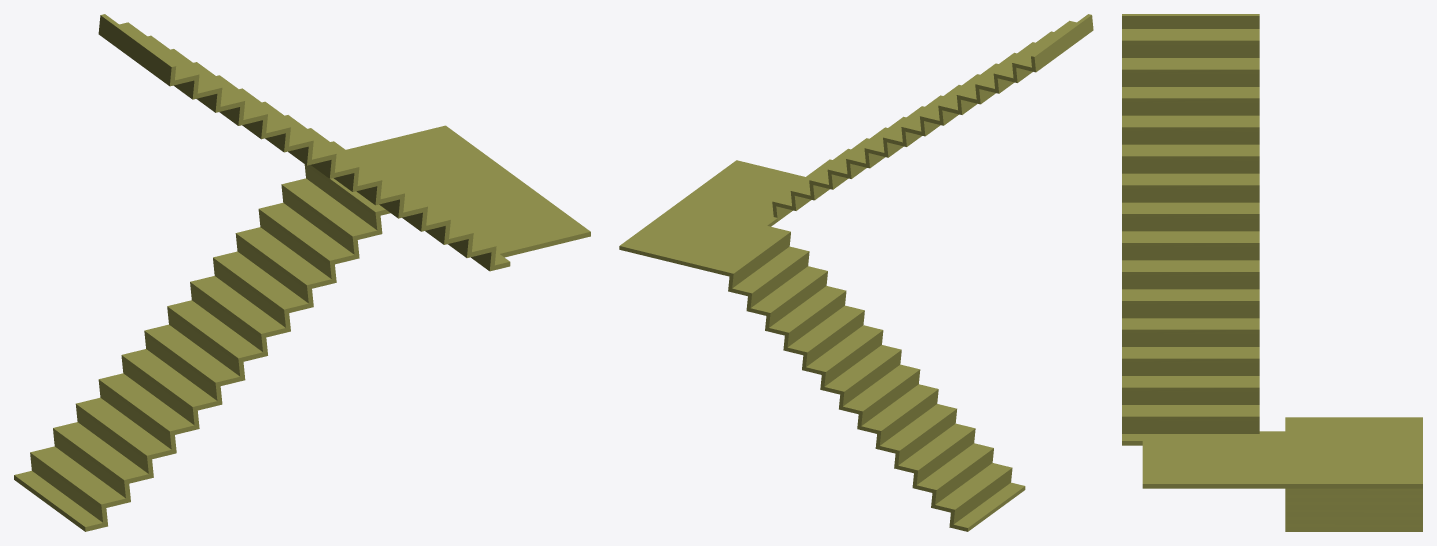
The model's file is stairs.obj.
3 renders of one model, left to right at view 1: azimuth 30°, elevation 25°; view 2: azimuth 150°, elevation 25°; view 3: azimuth 270°, elevation 25°, orthographic. The views are drawn at different scales.
Parts seen in each view (by area): view 1: Mesh5061_________1670997__3D_1_Y15_3D_pour_escaliers_dwg1_Model; view 2: Mesh5061_________1670997__3D_1_Y15_3D_pour_escaliers_dwg1_Model; view 3: Mesh5061_________1670997__3D_1_Y15_3D_pour_escaliers_dwg1_Model.
Boxes of the visible parts, box(x1,y1,x2,y2) form: Mesh5061_________1670997__3D_1_Y15_3D_pour_escaliers_dwg1_Model: box(14, 14, 590, 531); Mesh5061_________1670997__3D_1_Y15_3D_pour_escaliers_dwg1_Model: box(619, 14, 1093, 531); Mesh5061_________1670997__3D_1_Y15_3D_pour_escaliers_dwg1_Model: box(1122, 14, 1422, 531).
Size of the model in its own units: 8.06 by 9.38 by 5.03.
